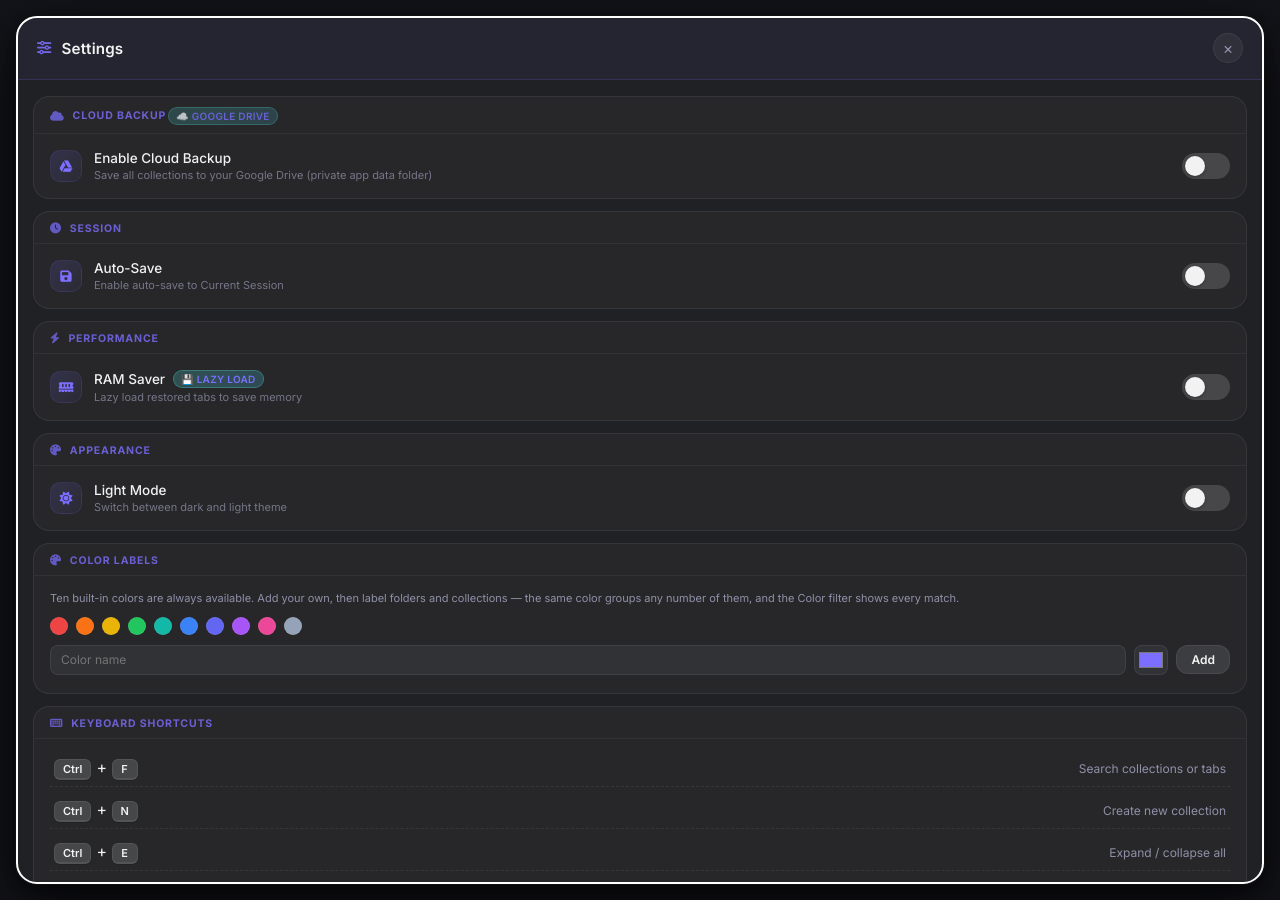
Test case: SettingsModal › adds a custom colour to the palette through the store queue
This screenshot has width=1280, height=900.
In the field named "New color name": {"x": 588, "y": 660} [50,644,1126,674], type "Ocean"
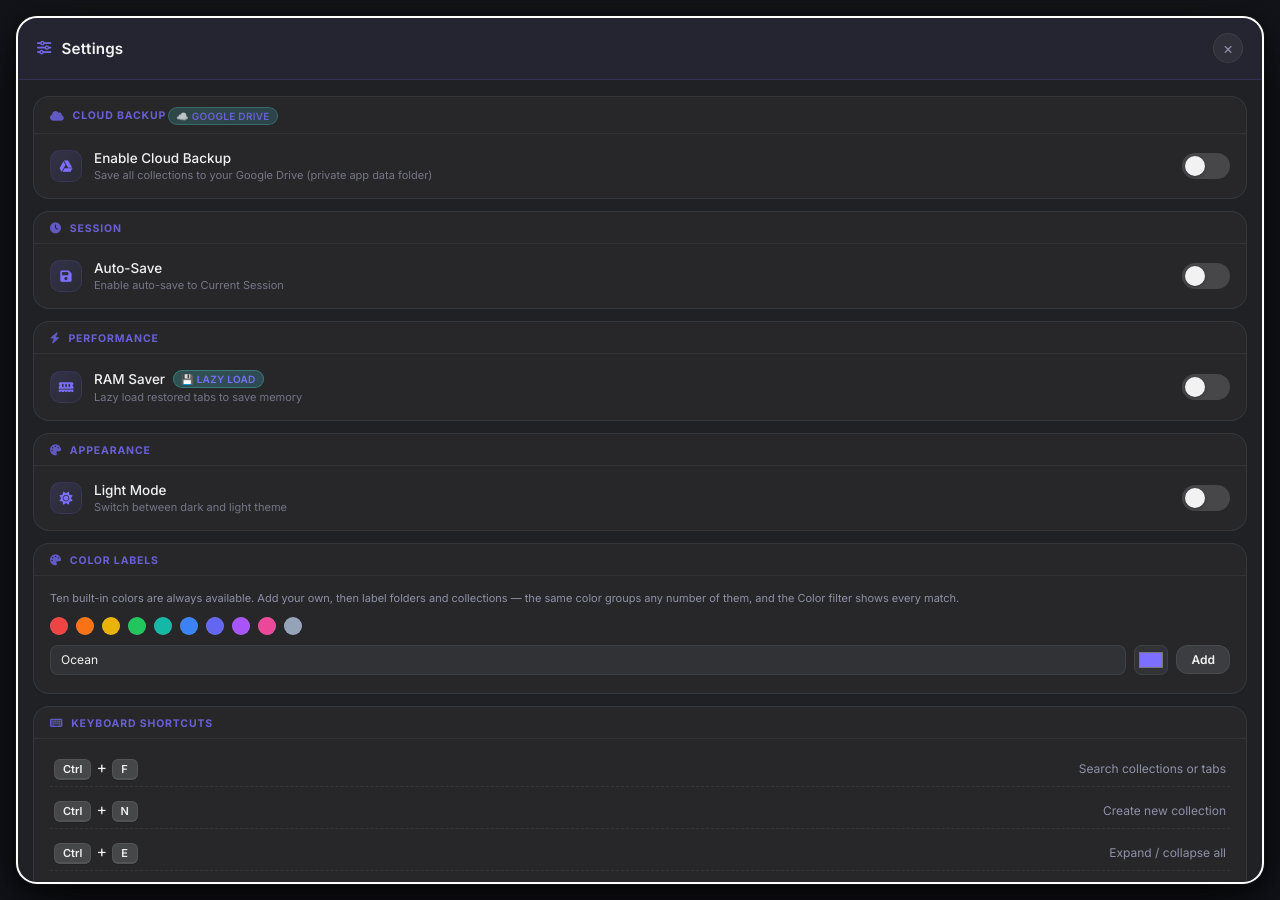
Click the button "Add": {"x": 1203, "y": 660} [1176,645,1230,674]
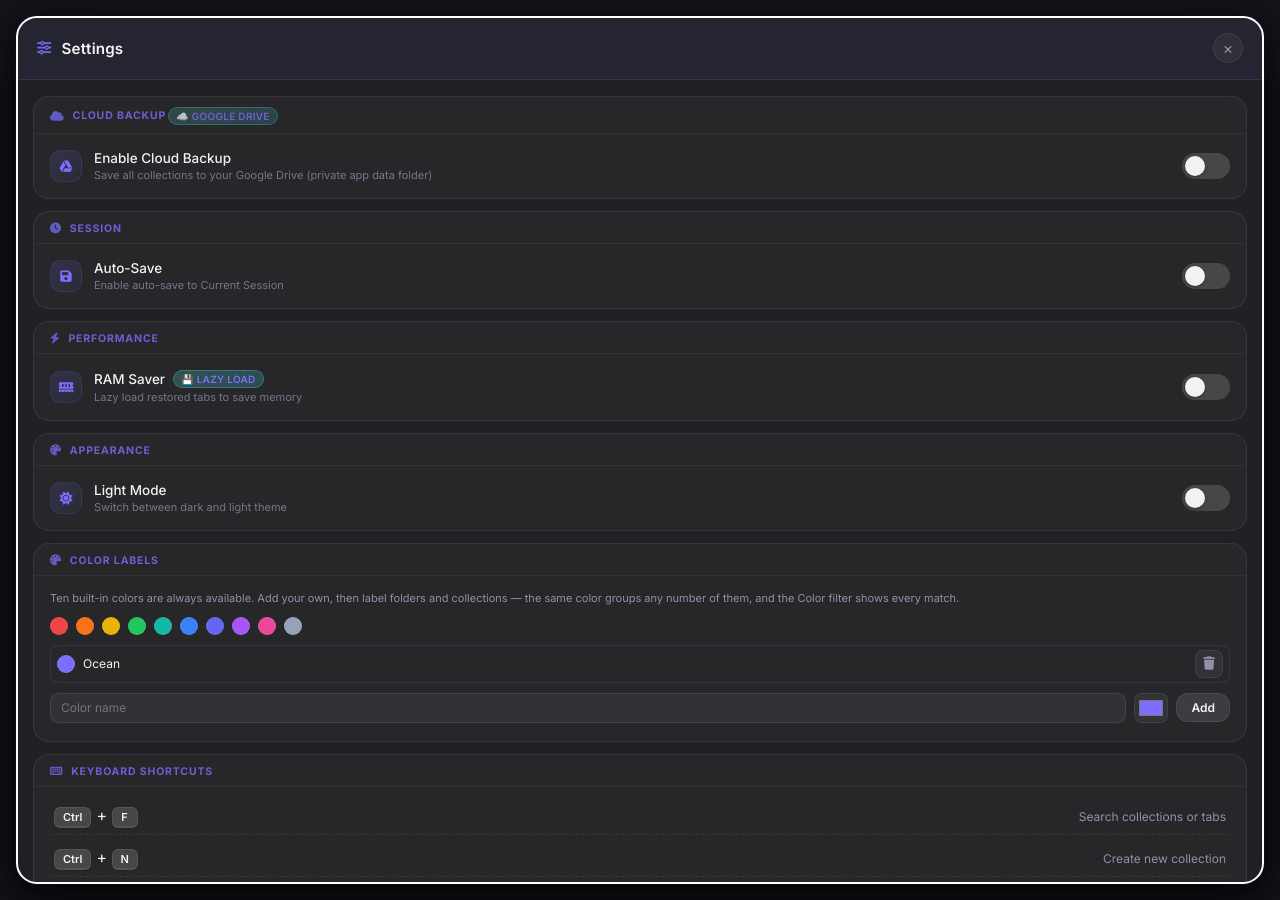
expect the text "Ocean" is shown: met, box [83,656,120,671]
